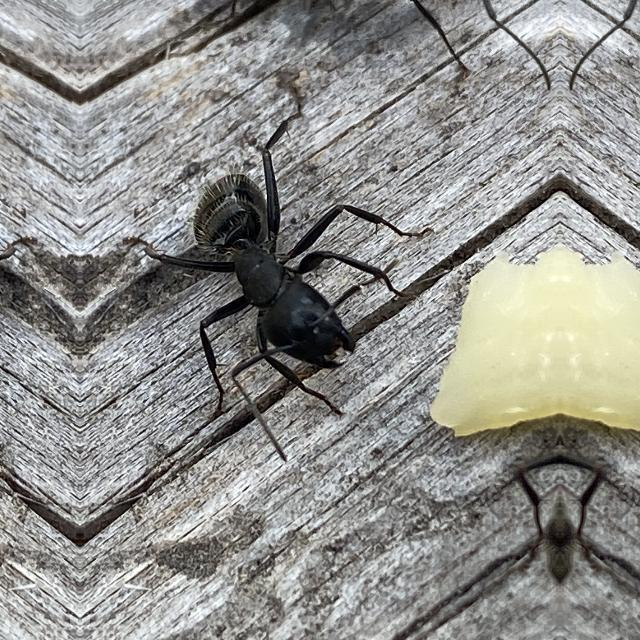Camponotus: (132, 107, 408, 403)
